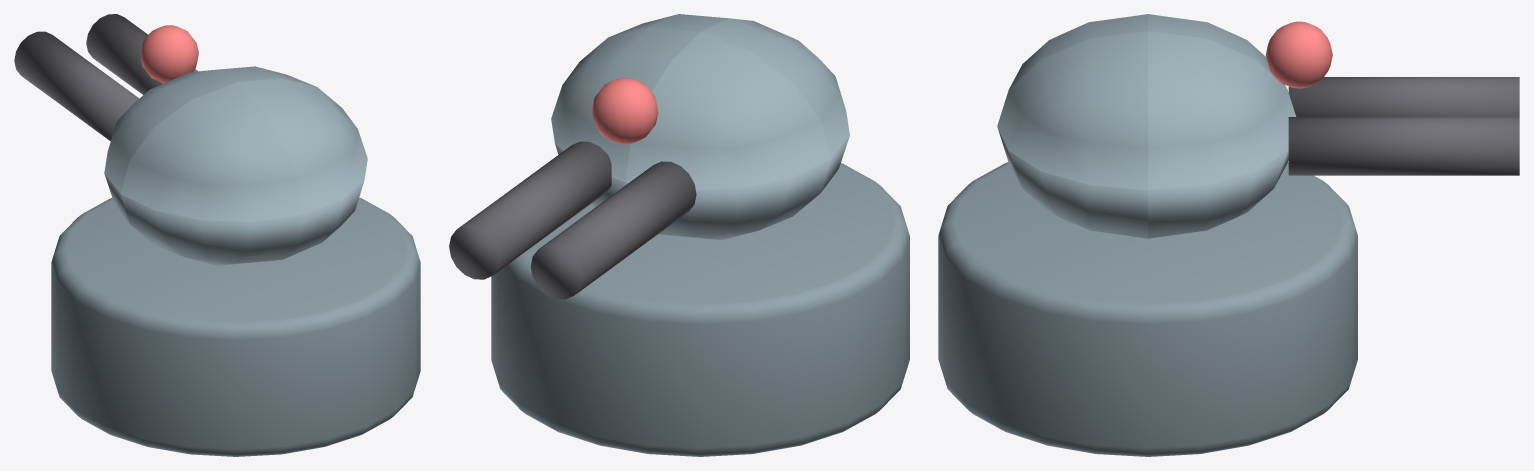
File: Turret.fbx
3 renders of one model, left to right at view 1: azimuth 30°, elevation 25°; view 2: azimuth 150°, elevation 25°; view 3: azimuth 270°, elevation 25°, orthographic. The views are drawn at different scales.
Parts seen in each view (by area): view 1: Turret_Base, Turret_Head, Turret_Barrel, Turret_Lens; view 2: Turret_Base, Turret_Head, Turret_Barrel, Turret_Lens; view 3: Turret_Base, Turret_Head, Turret_Barrel, Turret_Lens.
Boxes of the visible parts, bbox=[...] form: Turret_Base: bbox=[51, 197, 420, 456]; Turret_Head: bbox=[104, 66, 367, 265]; Turret_Barrel: bbox=[14, 14, 198, 141]; Turret_Lens: bbox=[140, 25, 198, 83]; Turret_Base: bbox=[491, 163, 909, 456]; Turret_Head: bbox=[551, 14, 849, 239]; Turret_Barrel: bbox=[449, 141, 696, 299]; Turret_Lens: bbox=[592, 77, 658, 144]; Turret_Base: bbox=[938, 162, 1357, 456]; Turret_Head: bbox=[997, 14, 1296, 238]; Turret_Barrel: bbox=[1288, 77, 1519, 175]; Turret_Lens: bbox=[1265, 21, 1332, 88].
Bounding box in the file's own units: 112 × 103 × 155.
